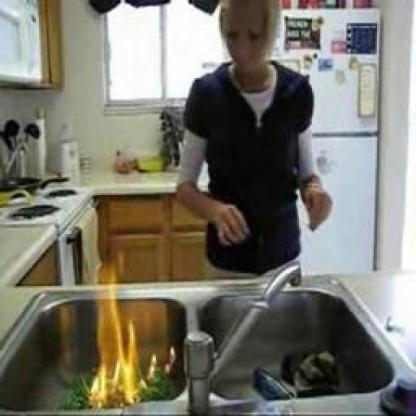fire: (88, 269, 150, 404), (144, 342, 180, 388)
